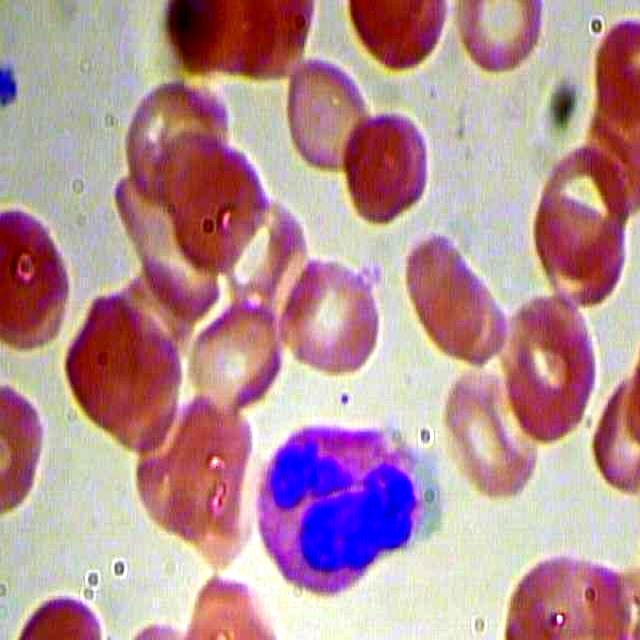Platelets: (1, 55, 25, 109)
RBC: (496, 292, 609, 448), (160, 132, 272, 281), (401, 227, 512, 372), (62, 289, 164, 442), (438, 348, 540, 500), (530, 132, 632, 284), (285, 241, 383, 383), (187, 290, 285, 414), (1, 205, 77, 355), (283, 56, 374, 172), (339, 111, 429, 221), (344, 2, 449, 78), (452, 2, 557, 78), (185, 572, 276, 640)
WBC: (247, 393, 436, 599)
